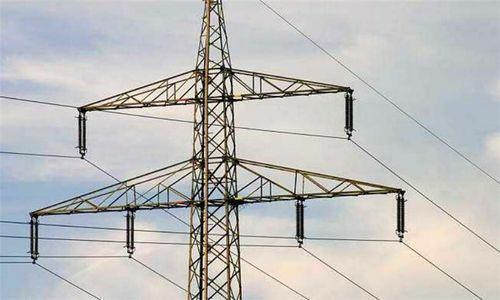power_tower: (26, 0, 406, 300)
